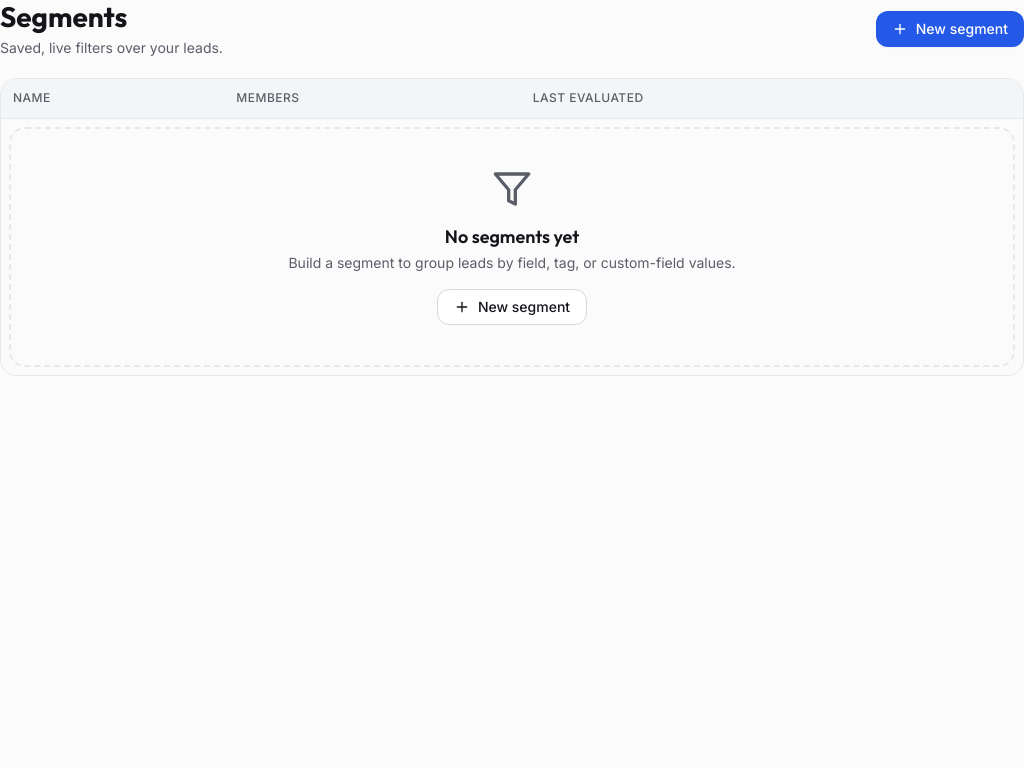
SegmentsPage › opens the builder dialog and validates an empty name
Click the button "New segment" in the row of "Saved, live filters over your leads.": {"x": 950, "y": 29} x1=876 y1=11 x2=1023 y2=47
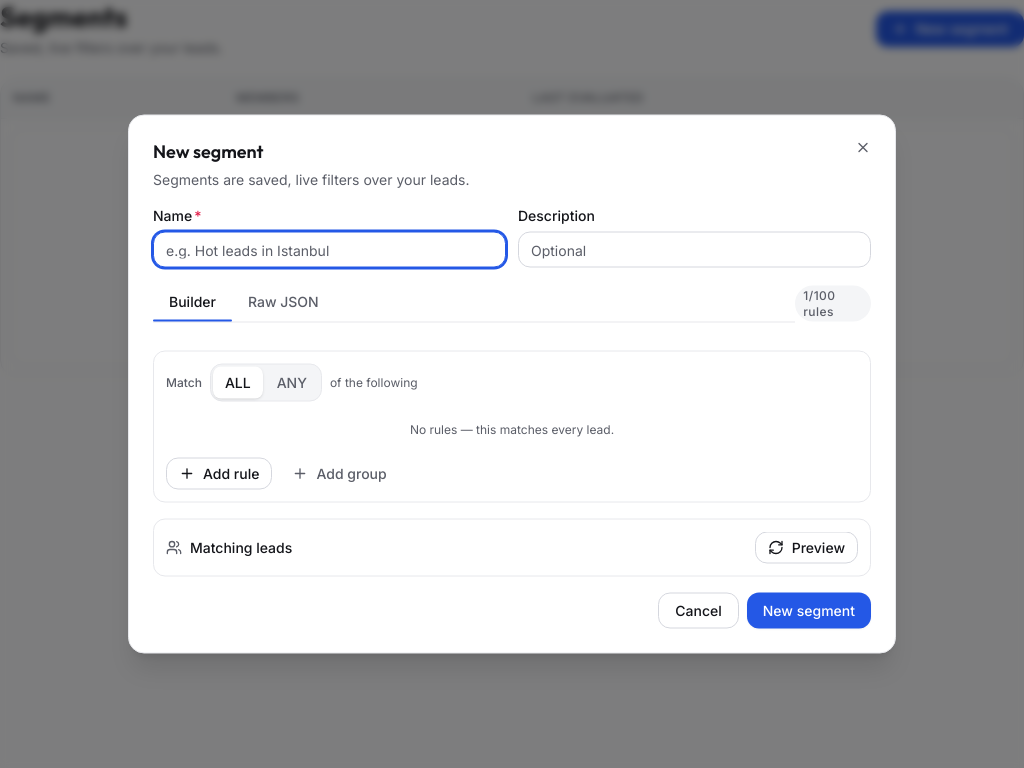
Now the heading "New segment" is shown, box x1=153 y1=140 x2=264 y2=162
Click the button "New segment": {"x": 809, "y": 610} x1=747 y1=592 x2=871 y2=628
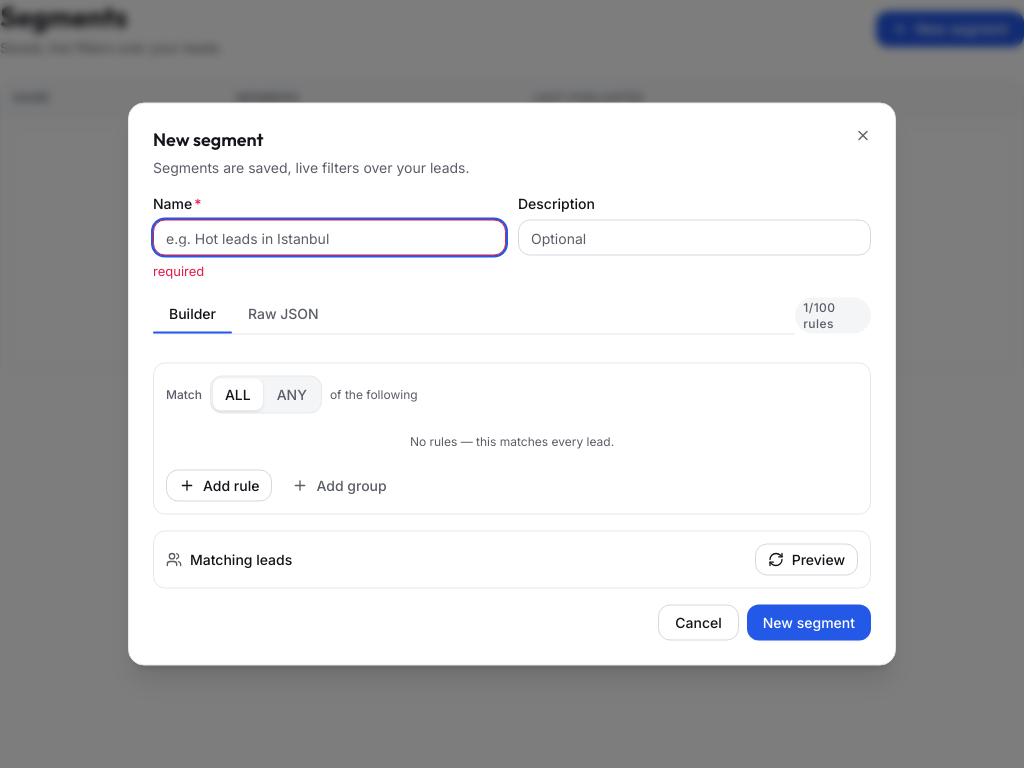
Now the message "required" is shown, box x1=153 y1=262 x2=204 y2=278
